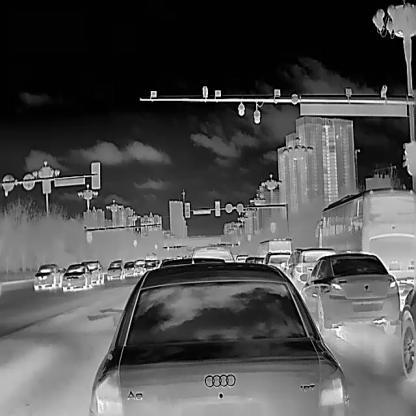car: (87, 260, 350, 415), (312, 186, 416, 289), (298, 250, 400, 333), (280, 246, 338, 286), (401, 282, 416, 382), (61, 262, 93, 291), (32, 262, 62, 289), (191, 246, 235, 263), (257, 251, 293, 271), (259, 236, 291, 257), (80, 259, 104, 285), (107, 258, 126, 280), (123, 259, 138, 276), (142, 258, 157, 273), (133, 258, 146, 275), (245, 254, 265, 264), (235, 254, 248, 264)
